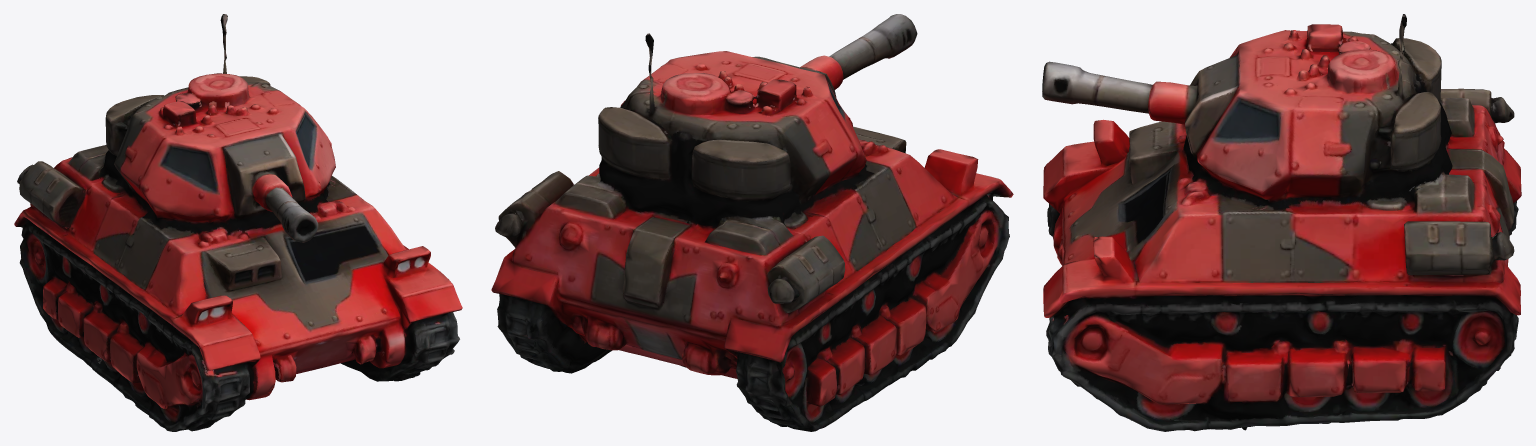
3 renders of one model, left to right at view 1: azimuth 30°, elevation 25°; view 2: azimuth 150°, elevation 25°; view 3: azimuth 270°, elevation 25°, orthographic. The views are drawn at different scales.
Visible parts, largest first — view 1: Mesh_0; view 2: Mesh_0; view 3: Mesh_0.
Boxes of the visible parts, x1,y1,x2,y2 form: Mesh_0: [14, 14, 462, 431]; Mesh_0: [491, 14, 1013, 431]; Mesh_0: [1042, 14, 1521, 431].
Bounding box in the file's own units: 1.88 × 2.1 × 2.45.
1 material, 1 textured.
